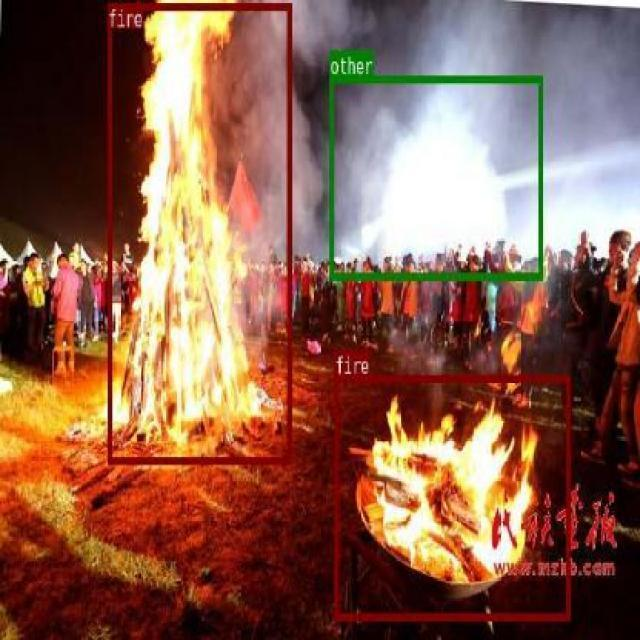Fire: (122, 2, 275, 459), (350, 368, 555, 601)
Smoke: (278, 0, 626, 277)
